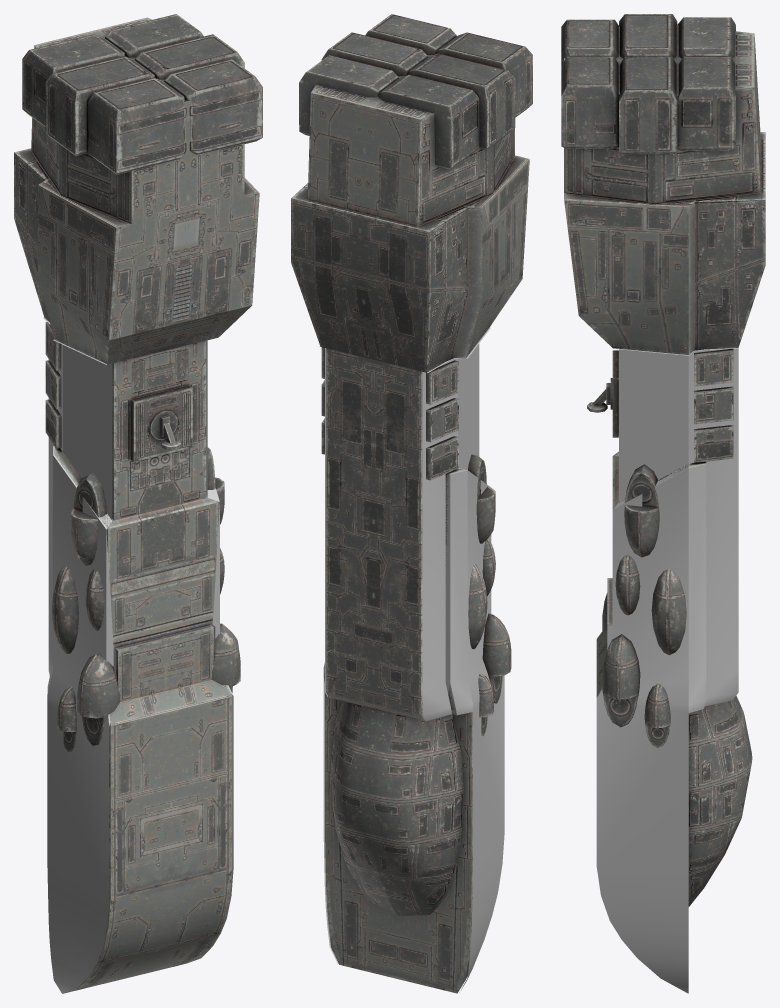
Rendered from Dreadgnought-class_heavy_cruiser_Empire.obj.
The picture shows the model from 3 angles, left to right: view 1: azimuth 30°, elevation 25°; view 2: azimuth 150°, elevation 25°; view 3: azimuth 270°, elevation 25°; orthographic projection. The views are drawn at different scales.
Visible parts, largest first — view 1: objdefault, lights, lights1; view 2: objdefault, lights; view 3: objdefault, lights.
Part boxes in pixels (<box>): objdefault: <box>14,14,262,993</box>; lights: <box>43,317,233,993</box>; lights1: <box>108,326,229,364</box>; objdefault: <box>291,14,532,993</box>; lights: <box>319,327,504,992</box>; objdefault: <box>561,14,765,906</box>; lights: <box>596,348,738,993</box>.
Size of the model in its own units: 48.73 by 251 by 51.05.
